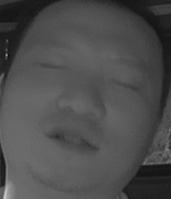blink: (32, 53, 65, 76), (111, 69, 141, 94)
mouth: (42, 120, 101, 158)
